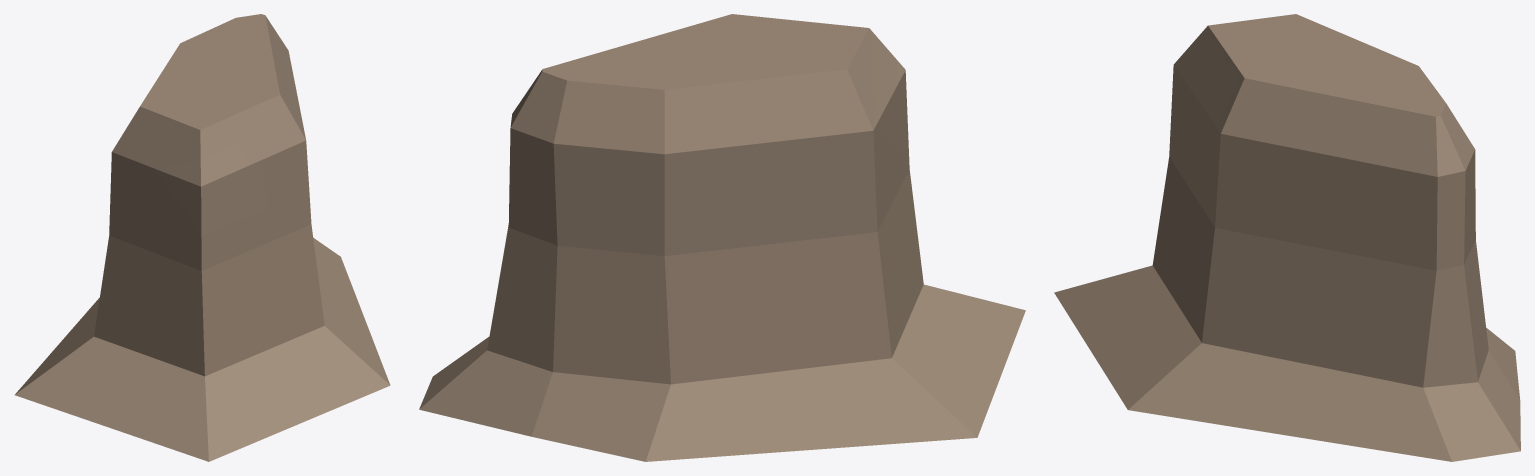
The model's file is mountain1.glb.
3 renders of one model, left to right at view 1: azimuth 30°, elevation 25°; view 2: azimuth 150°, elevation 25°; view 3: azimuth 270°, elevation 25°, orthographic. The views are drawn at different scales.
Parts seen in each view (by area): view 1: Cylinder.044; view 2: Cylinder.044; view 3: Cylinder.044.
Boxes of the visible parts, bbox=[...] form: Cylinder.044: bbox=[14, 14, 390, 461]; Cylinder.044: bbox=[419, 14, 1025, 461]; Cylinder.044: bbox=[1054, 14, 1520, 461].
Bounding box in the file's own units: 40.72 × 26.88 × 37.94.
